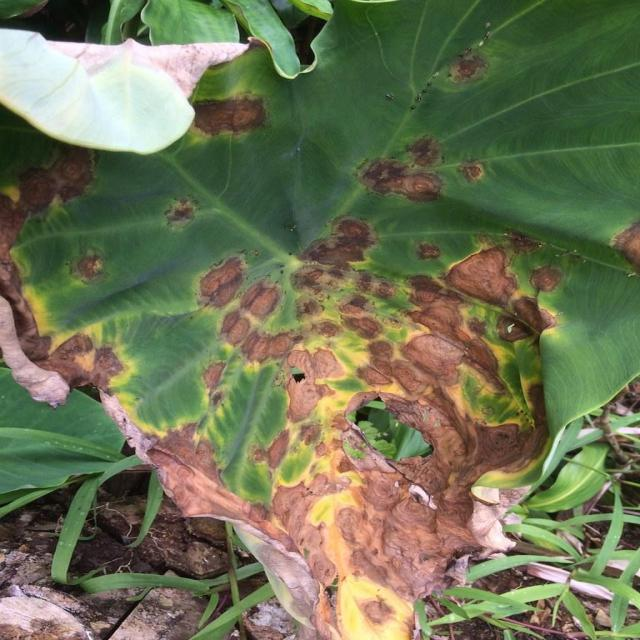blight: (200, 233, 520, 389), (270, 450, 442, 612)
